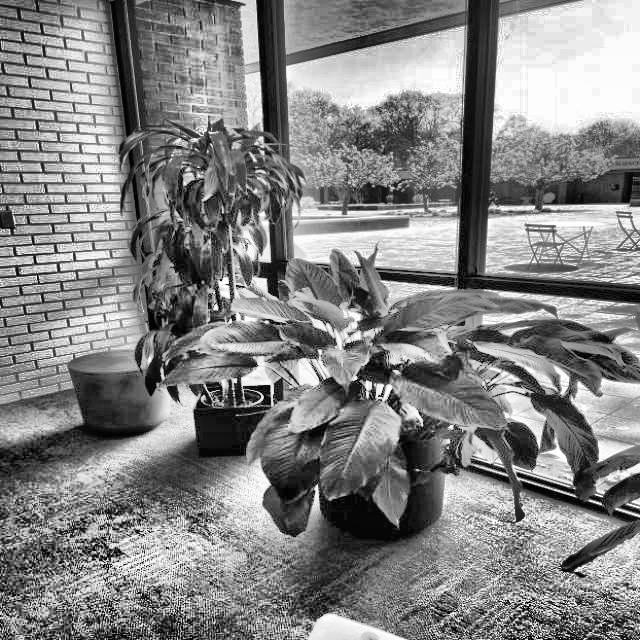plants: (262, 241, 528, 550), (121, 96, 282, 474)
